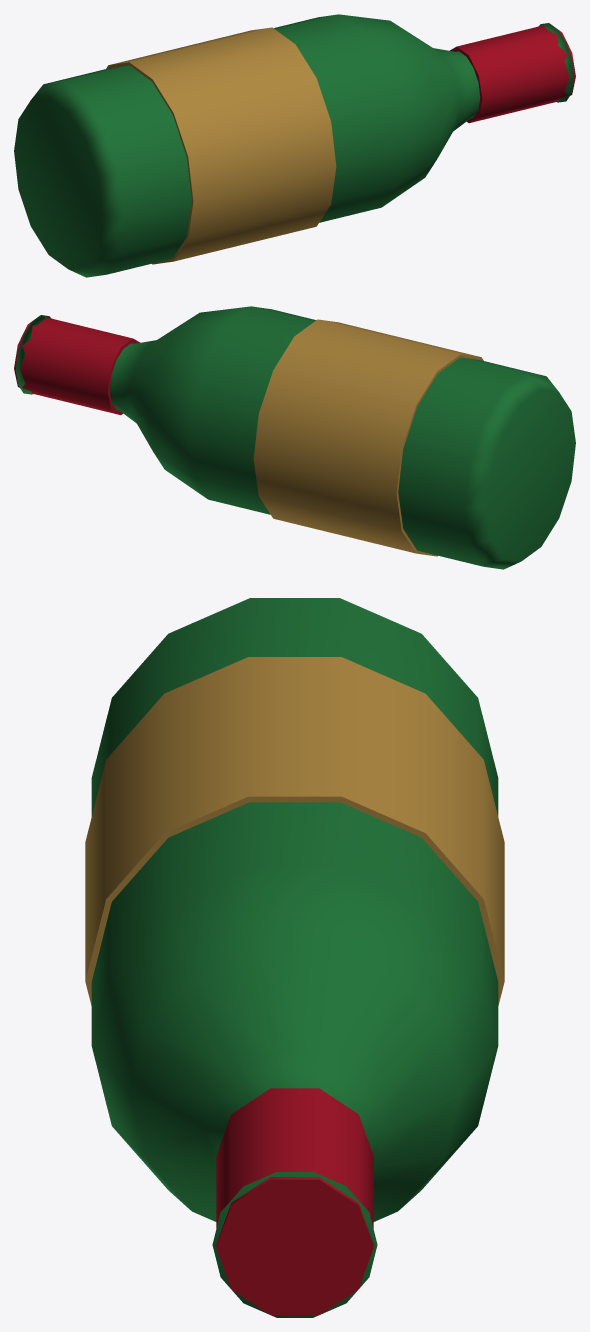
The model's file is wine-bottle.glb.
3 views of the same model, one above another, from view 1: azimuth 30°, elevation 25°; view 2: azimuth 150°, elevation 25°; view 3: azimuth 270°, elevation 25° (orthographic). The views are drawn at different scales.
Visible parts, largest first — view 1: Mesh_Body, Mesh_Label, Mesh_Capsule; view 2: Mesh_Body, Mesh_Label, Mesh_Capsule; view 3: Mesh_Body, Mesh_Label, Mesh_Capsule.
Boxes of the visible parts, bbox=[...] form: Mesh_Body: bbox=[14, 14, 573, 277]; Mesh_Label: bbox=[106, 27, 336, 264]; Mesh_Capsule: bbox=[450, 25, 575, 123]; Mesh_Body: bbox=[16, 306, 575, 569]; Mesh_Label: bbox=[253, 319, 483, 556]; Mesh_Capsule: bbox=[14, 317, 139, 415]; Mesh_Body: bbox=[91, 598, 498, 1317]; Mesh_Label: bbox=[85, 657, 504, 1005]; Mesh_Capsule: bbox=[216, 1088, 373, 1315].
Size of the model in its own units: 0.905 by 0.3217 by 0.33.
